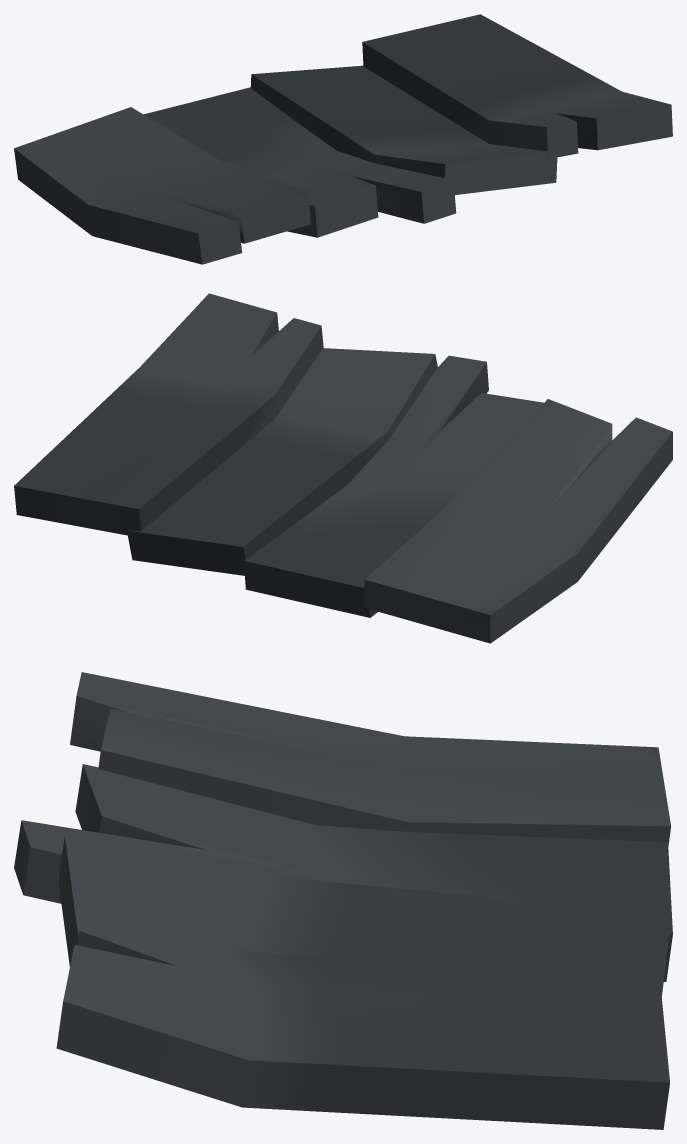
File: SM_Bld_Roof_Edge_Half_01.fbx
3 views of the same model, one above another, from view 1: azimuth 30°, elevation 25°; view 2: azimuth 150°, elevation 25°; view 3: azimuth 270°, elevation 25° (orthographic). The views are drawn at different scales.
Visible parts, largest first — view 1: SM_Bld_Roof_Edge_Half_01; view 2: SM_Bld_Roof_Edge_Half_01; view 3: SM_Bld_Roof_Edge_Half_01.
Part boxes in pixels (left/top/right/bottom): SM_Bld_Roof_Edge_Half_01: left=14, top=14, right=672, bottom=264; SM_Bld_Roof_Edge_Half_01: left=14, top=293, right=672, bottom=643; SM_Bld_Roof_Edge_Half_01: left=14, top=672, right=672, bottom=1129.
Size of the model in its own units: 128 by 26.1 by 95.43.
Materials: 1 (1 with a texture image).
